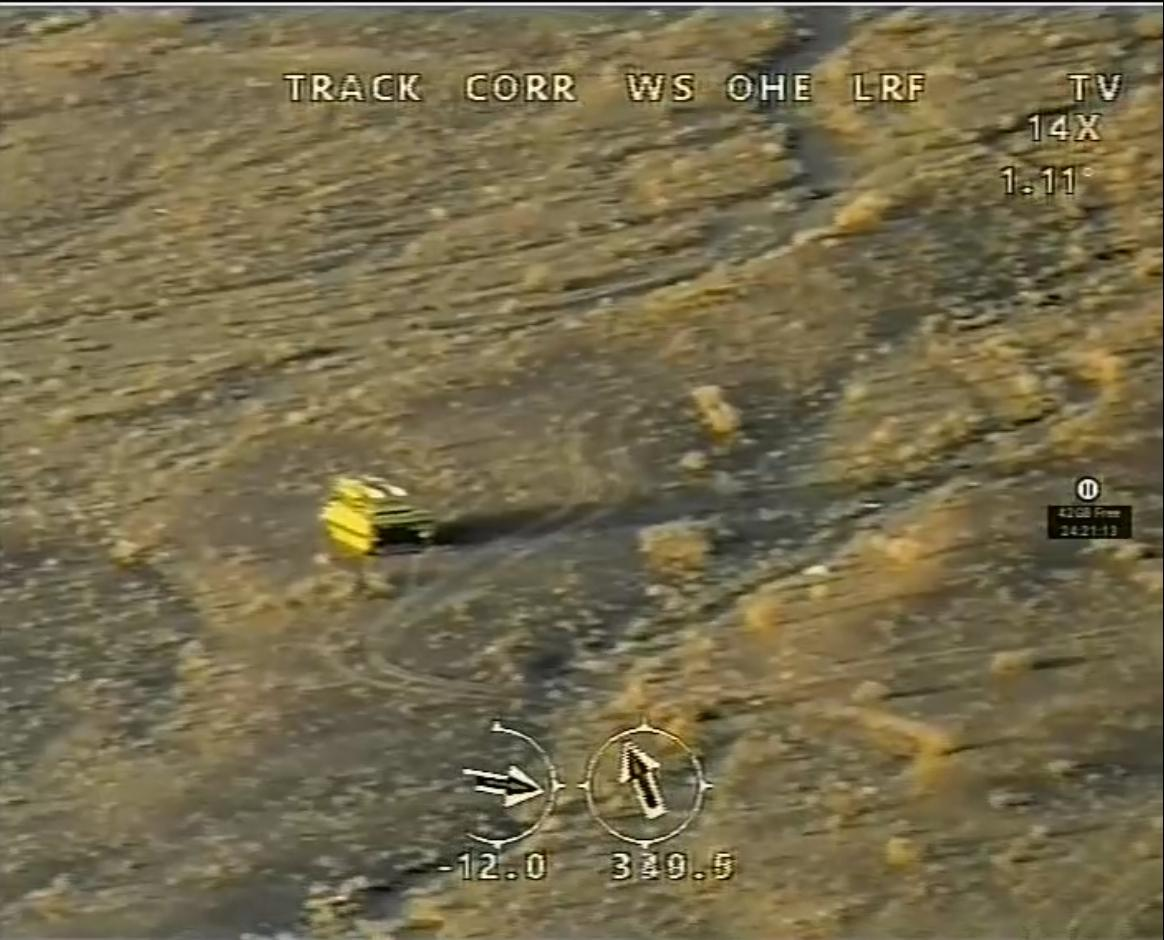armored_car: (315, 472, 441, 556)
